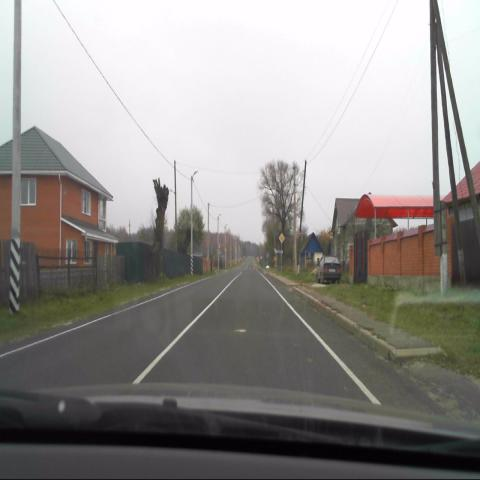2_1: (278, 232, 285, 245)
